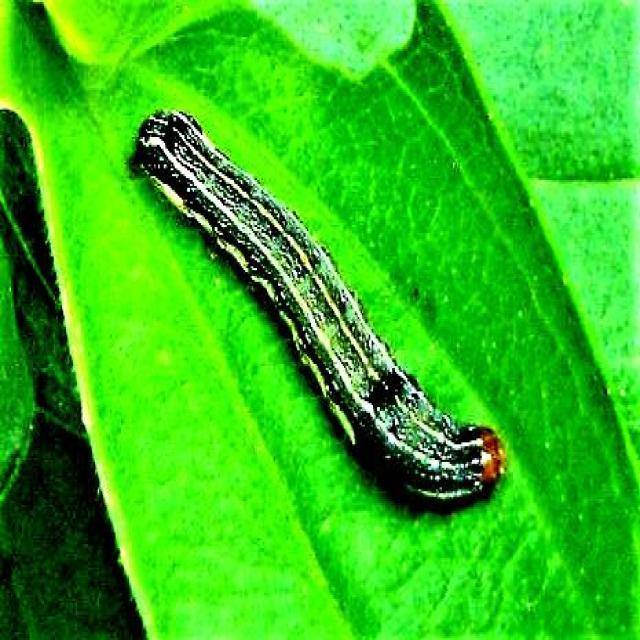armyworm: (132, 105, 507, 512)
